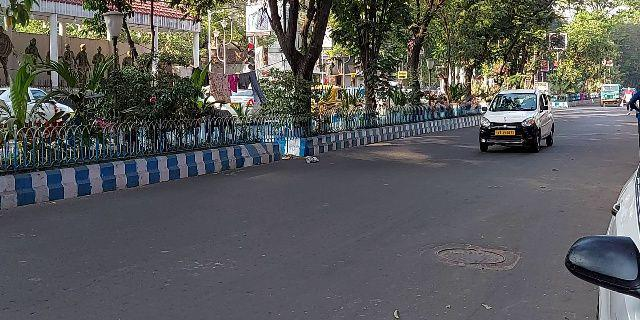Car: (472, 87, 558, 155)
